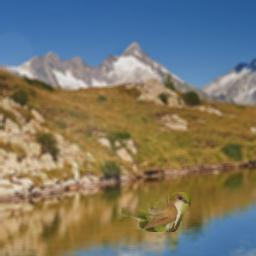Cuckoo: (120, 192, 191, 232)
